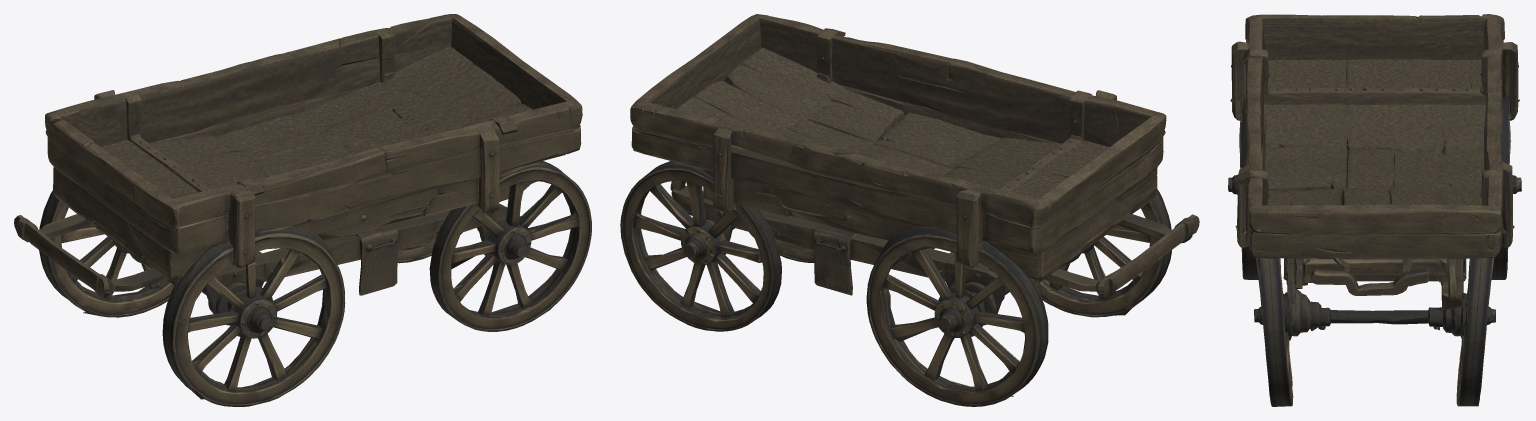
File: roman-cart.glb
3 renders of one model, left to right at view 1: azimuth 30°, elevation 25°; view 2: azimuth 150°, elevation 25°; view 3: azimuth 270°, elevation 25°, orthographic.
Bounding box in the file's own units: 1.9 × 0.8286 × 1.01.
1 material, 1 textured.
